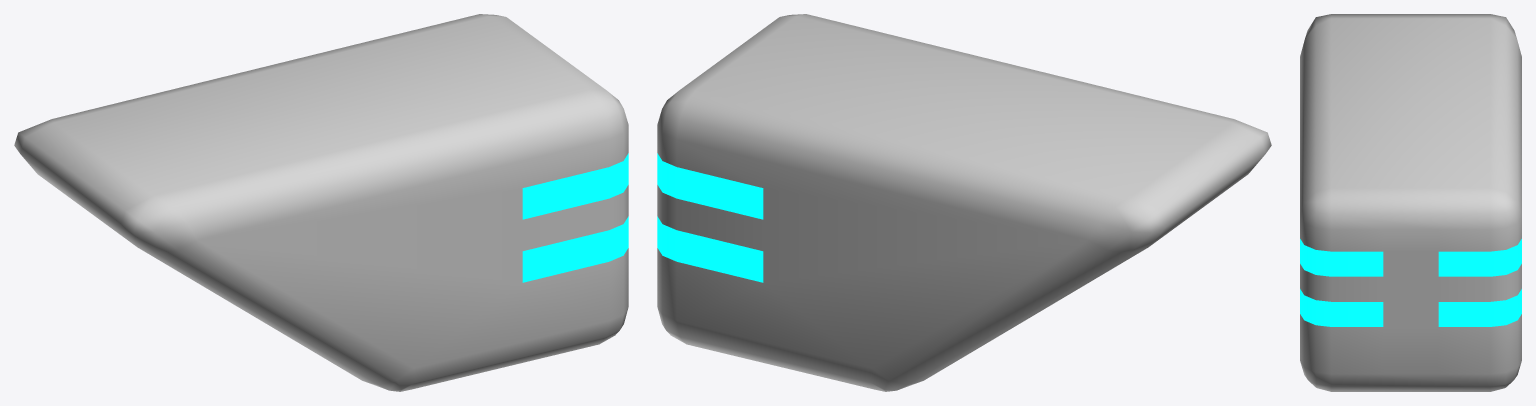
File: BuildingSomethingReallyGoodHead.fbx
3 renders of one model, left to right at view 1: azimuth 30°, elevation 25°; view 2: azimuth 150°, elevation 25°; view 3: azimuth 270°, elevation 25°, orthographic. The views are drawn at different scales.
Visible parts, largest first — view 1: Cube3; view 2: Cube3; view 3: Cube3.
Boxes of the visible parts, left/top/right/bottom form: Cube3: left=14, top=14, right=628, bottom=391; Cube3: left=657, top=14, right=1271, bottom=391; Cube3: left=1300, top=14, right=1521, bottom=391.
Bounding box in the file's own units: 40 × 83.43 × 40.
